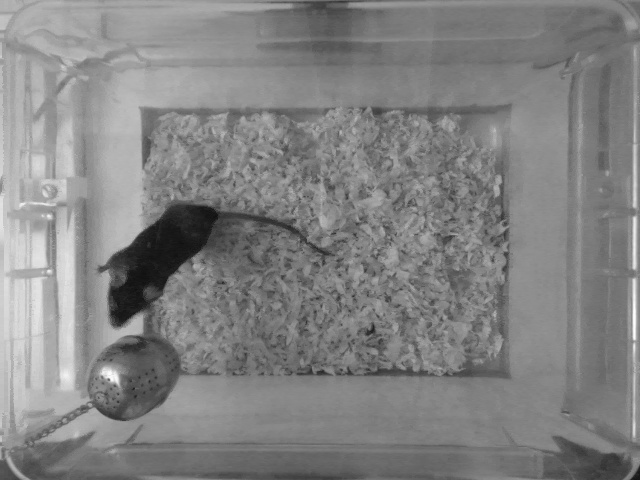mice: (94, 202, 339, 332)
